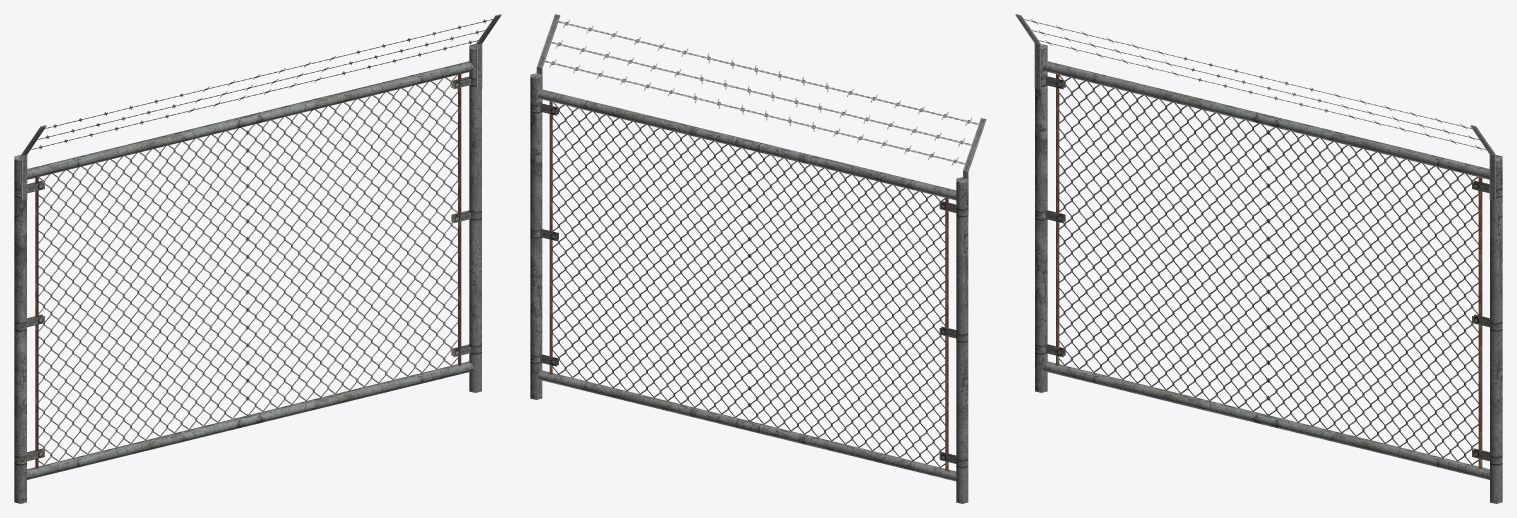
File: fenceMetal.FBX
The picture shows the model from 3 angles, left to right: view 1: azimuth 30°, elevation 25°; view 2: azimuth 150°, elevation 25°; view 3: azimuth 330°, elevation 25°; orthographic projection. The views are drawn at different scales.
Visible parts, largest first — view 1: fence; view 2: fence; view 3: fence.
Boxes of the visible parts, left/top/right/bottom form: fence: left=14, top=14, right=501, bottom=503; fence: left=530, top=14, right=986, bottom=503; fence: left=1015, top=14, right=1502, bottom=503.
Size of the model in its own units: 103 by 82.42 by 10.08.
